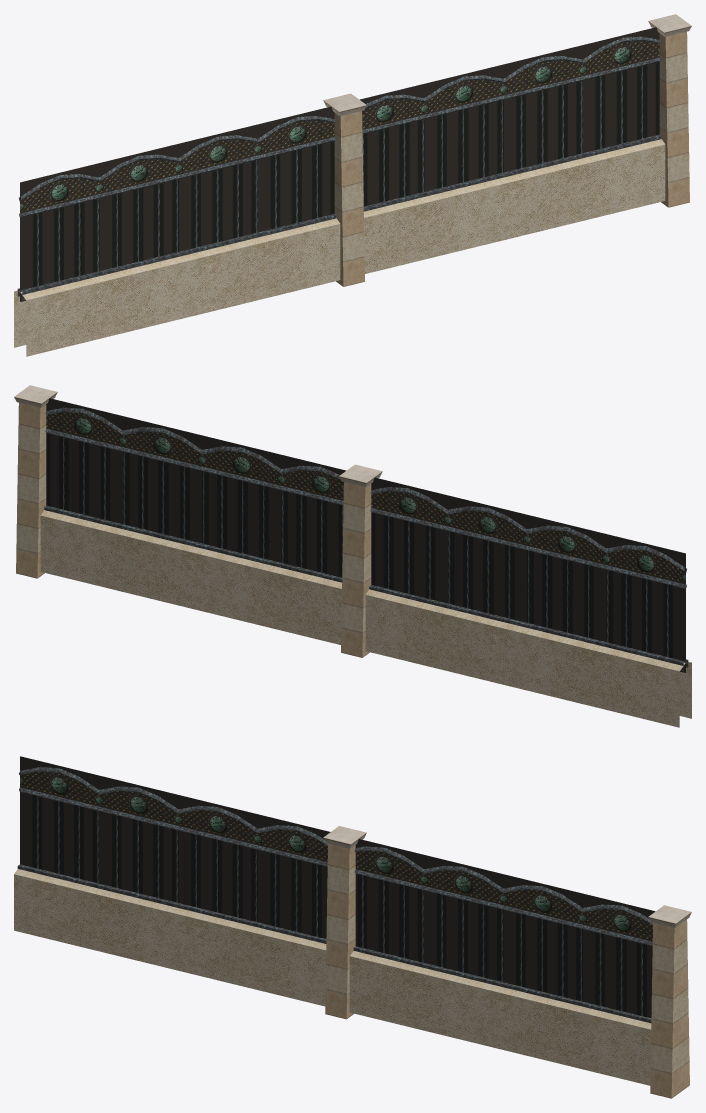
Rendered from thm_nboo_imprv_metal_fence_wall_sml_s02_l0.fbx.
3 views of the same model, one above another, from view 1: azimuth 30°, elevation 25°; view 2: azimuth 150°, elevation 25°; view 3: azimuth 330°, elevation 25° (orthographic).
Parts seen in each view (by area): view 1: mesh_node; view 2: mesh_node; view 3: mesh_node.
Boxes of the visible parts, x1,y1,x2,y2 form: mesh_node: (14,14,691,356); mesh_node: (14,385,691,727); mesh_node: (14,756,691,1098).
Bounding box in the file's own units: 6.29 × 1.58 × 0.3.
